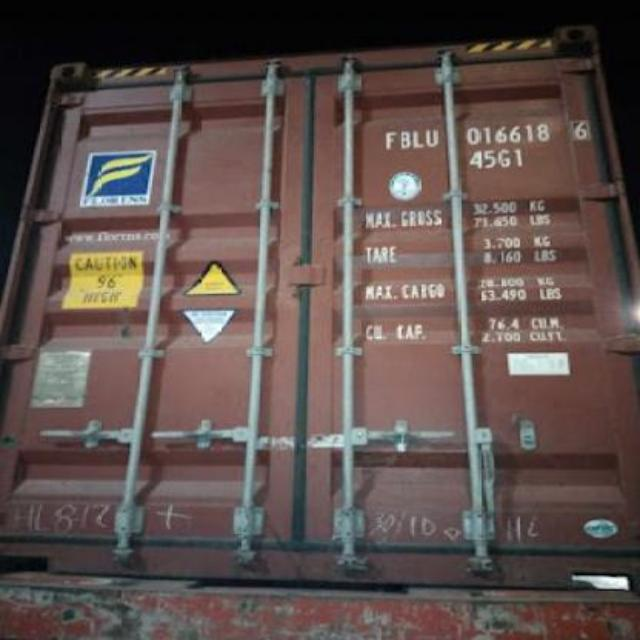0: (464, 122, 482, 148)
1: (522, 116, 534, 146), (481, 122, 494, 144)
6: (570, 116, 590, 144), (506, 117, 522, 147), (494, 118, 508, 146)
8: (534, 116, 552, 146)
B: (396, 125, 409, 151)
F: (382, 129, 396, 153)
L: (411, 127, 424, 151)
U: (422, 123, 440, 153)
